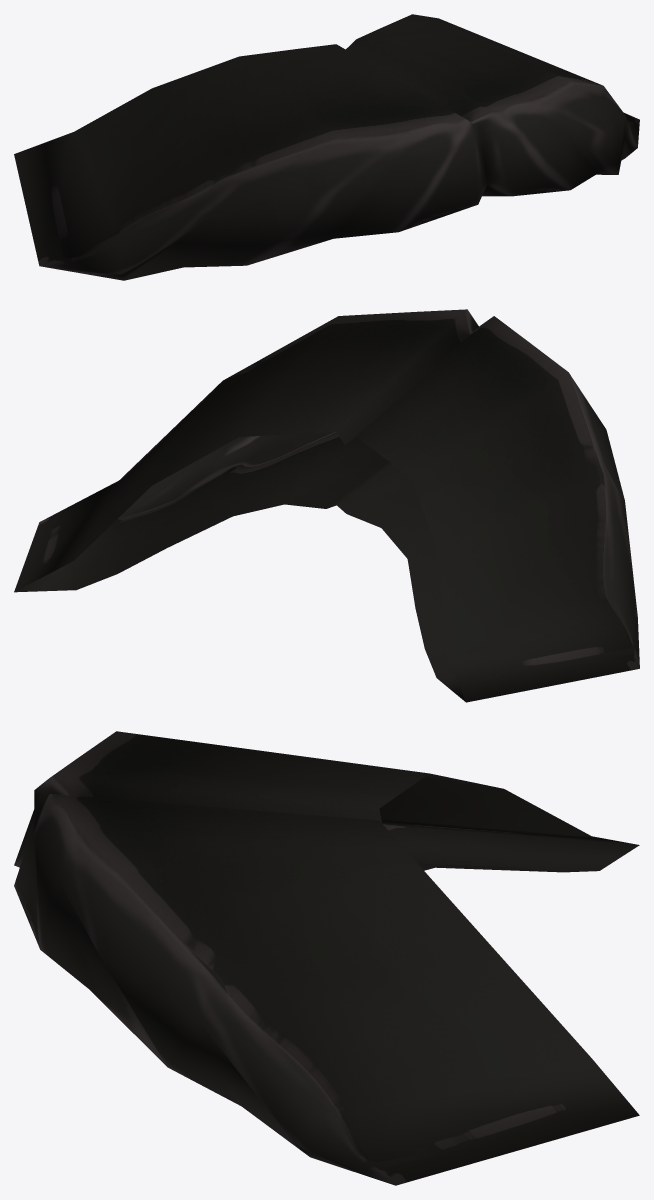
File: beard8.fbx
The picture shows the model from 3 angles, top to bottom: view 1: azimuth 30°, elevation 25°; view 2: azimuth 150°, elevation 25°; view 3: azimuth 270°, elevation 25°; orthographic projection. The views are drawn at different scales.
Parts seen in each view (by area): view 1: beard8; view 2: beard8; view 3: beard8.
Part boxes in pixels (x1,y1,x2,y2): beard8: [14, 14, 639, 280]; beard8: [14, 309, 639, 702]; beard8: [14, 731, 639, 1185].
Bounding box in the file's own units: 8.32 × 2.39 × 6.13.
